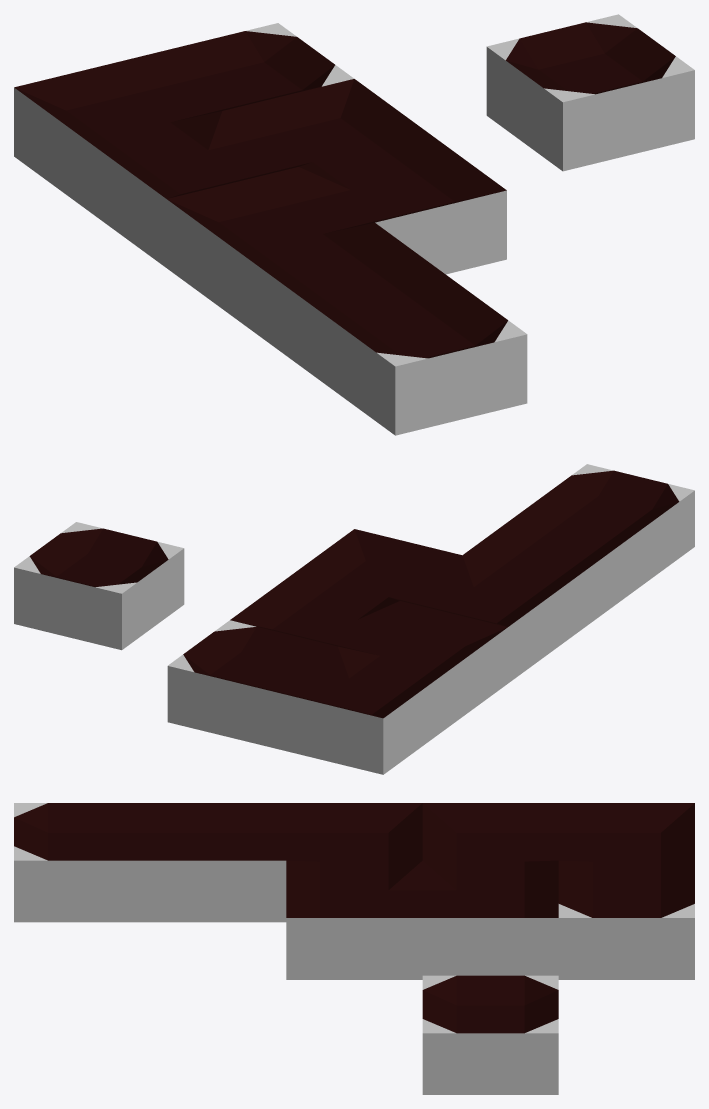
File: 26s_path.obj
3 views of the same model, one above another, from view 1: azimuth 30°, elevation 25°; view 2: azimuth 150°, elevation 25°; view 3: azimuth 270°, elevation 25° (orthographic). The views are drawn at different scales.
Parts seen in each view (by area): view 1: hole.3.3_Cube.052, ending.0.0_ending.101, corner.0.4_corner.253, corner.0.2_corner.251, corner.1.2_corner.254, through.0.1_through.053, corner.1.3_corner.255, corner.0.3_corner.252, ending.1.4_ending.102; view 2: hole.3.3_Cube.052, corner.0.4_corner.253, ending.1.4_ending.102, ending.0.0_ending.101, corner.0.3_corner.252, through.0.1_through.053, corner.1.2_corner.254, corner.0.2_corner.251, corner.1.3_corner.255; view 3: ending.0.0_ending.101, through.0.1_through.053, hole.3.3_Cube.052, corner.1.2_corner.254, ending.1.4_ending.102, corner.1.3_corner.255, corner.0.3_corner.252, corner.0.2_corner.251, corner.0.4_corner.253.
Boxes of the visible parts, x1=… form: hole.3.3_Cube.052: x1=486, y1=14, x2=694, y2=171; ending.0.0_ending.101: x1=319, y1=278, x2=527, y2=435; corner.0.4_corner.253: x1=14, y1=55, x2=221, y2=211; corner.0.2_corner.251: x1=166, y1=167, x2=374, y2=323; corner.1.2_corner.254: x1=299, y1=134, x2=506, y2=274; through.0.1_through.053: x1=242, y1=223, x2=450, y2=379; corner.1.3_corner.255: x1=222, y1=79, x2=430, y2=175; corner.0.3_corner.252: x1=90, y1=111, x2=295, y2=267; ending.1.4_ending.102: x1=146, y1=23, x2=353, y2=114; hole.3.3_Cube.052: x1=14, y1=522, x2=184, y2=650; corner.0.4_corner.253: x1=275, y1=647, x2=445, y2=774; ending.1.4_ending.102: x1=167, y1=620, x2=337, y2=748; ending.0.0_ending.101: x1=525, y1=464, x2=694, y2=591; corner.0.3_corner.252: x1=338, y1=601, x2=507, y2=728; through.0.1_through.053: x1=462, y1=510, x2=632, y2=637; corner.1.2_corner.254: x1=292, y1=529, x2=461, y2=608; corner.0.2_corner.251: x1=403, y1=555, x2=570, y2=683; corner.1.3_corner.255: x1=230, y1=574, x2=399, y2=648; ending.0.0_ending.101: x1=14, y1=803, x2=150, y2=922; through.0.1_through.053: x1=150, y1=803, x2=286, y2=922; hole.3.3_Cube.052: x1=422, y1=975, x2=558, y2=1094; corner.1.2_corner.254: x1=286, y1=860, x2=422, y2=979; ending.1.4_ending.102: x1=558, y1=860, x2=694, y2=979; corner.1.3_corner.255: x1=422, y1=861, x2=558, y2=975; corner.0.3_corner.252: x1=422, y1=803, x2=558, y2=875; corner.0.2_corner.251: x1=286, y1=803, x2=422, y2=875; corner.0.4_corner.253: x1=558, y1=803, x2=694, y2=875.
Bounding box in the file's own units: 8 × 1 × 10.
